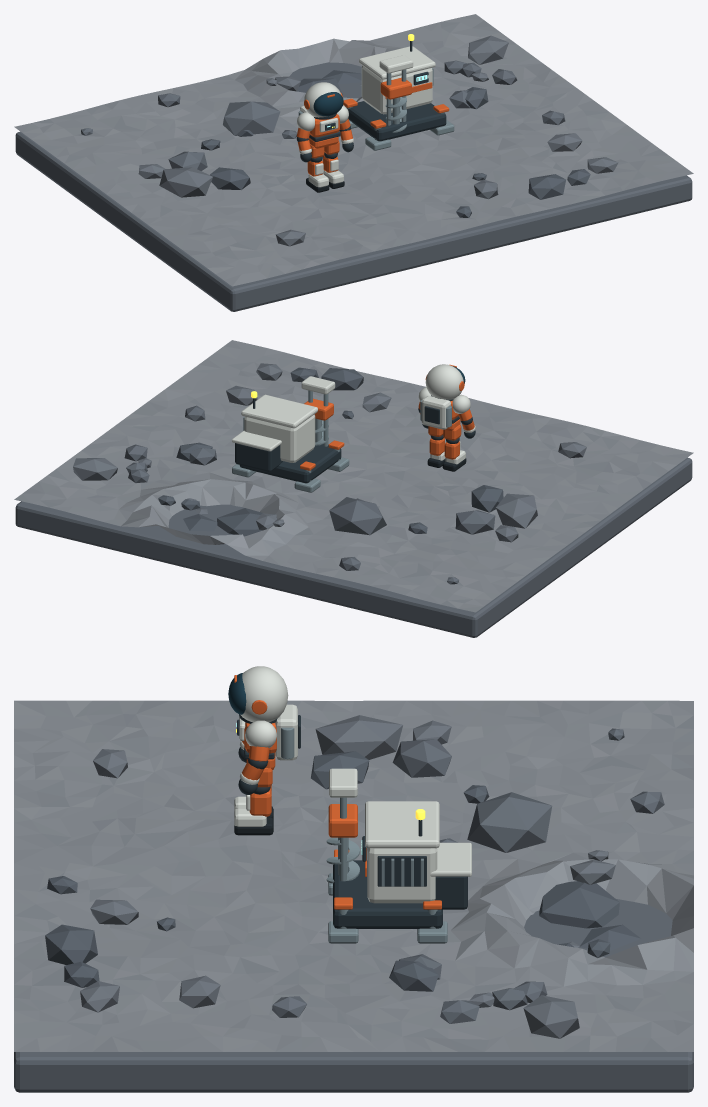
The model's file is lunar-art-test.glb.
3 views of the same model, one above another, from view 1: azimuth 30°, elevation 25°; view 2: azimuth 150°, elevation 25°; view 3: azimuth 270°, elevation 25° (orthographic). The views are drawn at different scales.
Parts seen in each view (by area): view 1: TERRAIN • faceted lunar patch, Terrain cut edge, Lower chassis, Basalt form 2, Ceramic main housing, Basalt scatter 05, Housing cap, Basalt form 3, Basalt scatter 24, Basalt scatter 06, Basalt scatter 04, Visor / dark wraparound (+3 smaller); view 2: TERRAIN • faceted lunar patch, Terrain cut edge, Ceramic main housing, Basalt form 2, Housing cap, Lower chassis, Basalt scatter 05, Helmet / ivory pressure shell, Output hopper, Basalt form 1, Basalt form 3, Basalt scatter 04 (+4 smaller); view 3: TERRAIN • faceted lunar patch, Terrain cut edge, Basalt form 2, Lower chassis, Housing cap, Basalt form 1, Basalt scatter 05, Ceramic main housing, Helmet / ivory pressure shell, Basalt form 3, Basalt scatter 04, Basalt scatter 24 (+19 smaller).
Boxes of the visible parts, left/top/right/bottom form: TERRAIN • faceted lunar patch: left=14, top=14, right=693, bottom=286; Terrain cut edge: left=15, top=62, right=692, bottom=311; Lower chassis: left=345, top=101, right=446, bottom=141; Basalt form 2: left=223, top=101, right=280, bottom=135; Ceramic main housing: left=361, top=65, right=432, bottom=114; Basalt scatter 05: left=159, top=167, right=212, bottom=197; Housing cap: left=359, top=46, right=435, bottom=79; Basalt form 3: left=468, top=35, right=508, bottom=64; Basalt scatter 24: left=528, top=174, right=565, bottom=199; Basalt scatter 06: left=210, top=167, right=250, bottom=189; Basalt scatter 04: left=168, top=151, right=207, bottom=170; Visor / dark wraparound: left=313, top=92, right=343, bottom=116; TERRAIN • faceted lunar patch: left=14, top=340, right=693, bottom=612; Terrain cut edge: left=15, top=457, right=692, bottom=637; Ceramic main housing: left=244, top=414, right=315, bottom=462; Basalt form 2: left=329, top=497, right=386, bottom=535; Housing cap: left=241, top=394, right=317, bottom=428; Lower chassis: left=239, top=444, right=341, bottom=483; Basalt scatter 05: left=496, top=493, right=537, bottom=528; Helmet / ivory pressure shell: left=425, top=364, right=463, bottom=399; Output hopper: left=235, top=443, right=282, bottom=471; Basalt form 1: left=217, top=508, right=263, bottom=535; Basalt form 3: left=73, top=458, right=117, bottom=480; Basalt scatter 04: left=455, top=510, right=495, bottom=534; TERRAIN • faceted lunar patch: left=14, top=700, right=693, bottom=1051; Terrain cut edge: left=14, top=899, right=693, bottom=1092; Basalt form 2: left=467, top=792, right=552, bottom=852; Lower chassis: left=333, top=860, right=442, bottom=928; Housing cap: left=365, top=801, right=439, bottom=848; Basalt form 1: left=539, top=881, right=619, bottom=928; Basalt scatter 05: left=315, top=715, right=402, bottom=759; Ceramic main housing: left=367, top=848, right=437, bottom=903; Helmet / ivory pressure shell: left=240, top=666, right=288, bottom=722; Basalt form 3: left=523, top=995, right=579, bottom=1038; Basalt scatter 04: left=392, top=739, right=451, bottom=777; Basalt scatter 24: left=45, top=924, right=97, bottom=964.
Size of the model in its own units: 11 by 2.98 by 9.
